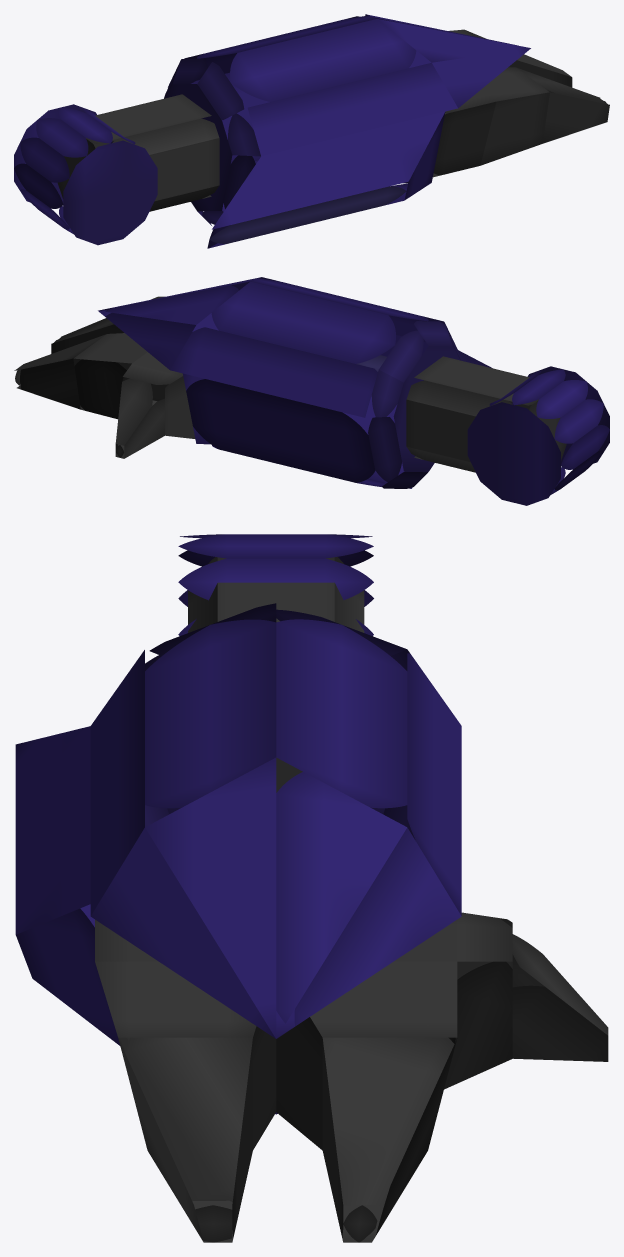
File: TurboRightArm.obj
3 renders of one model, top to bottom at view 1: azimuth 30°, elevation 25°; view 2: azimuth 150°, elevation 25°; view 3: azimuth 270°, elevation 25°, orthographic. The views are drawn at different scales.
Parts seen in each view (by area): view 1: cylinder, cuboid, Arm; view 2: cylinder, cuboid, Arm; view 3: cylinder, cuboid, Arm.
Boxes of the visible parts, box(x1,y1,x2,y2) form: cylinder: box(14, 14, 530, 248); cuboid: box(433, 29, 609, 177); Arm: box(57, 94, 219, 211); cylinder: box(98, 277, 609, 505); cuboid: box(14, 296, 195, 458); Arm: box(406, 356, 566, 472); cylinder: box(15, 534, 461, 1114); cuboid: box(95, 912, 608, 1242); Arm: box(188, 557, 364, 792).
Size of the model in its own units: 0.8031 by 0.2368 by 0.378.
1 material, 1 textured.
